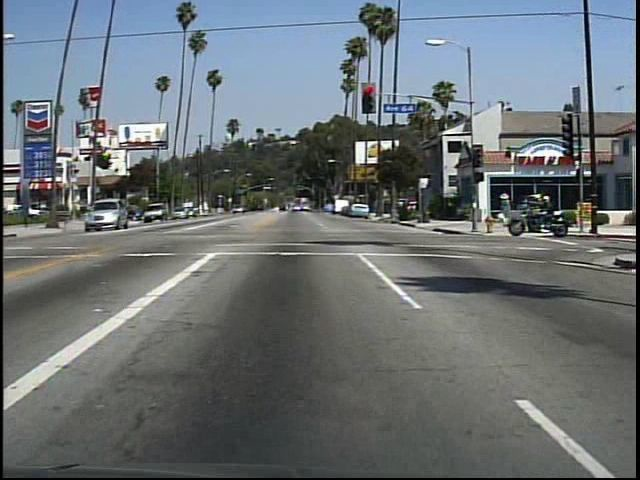person: (533, 193, 561, 235), (495, 188, 513, 230)
